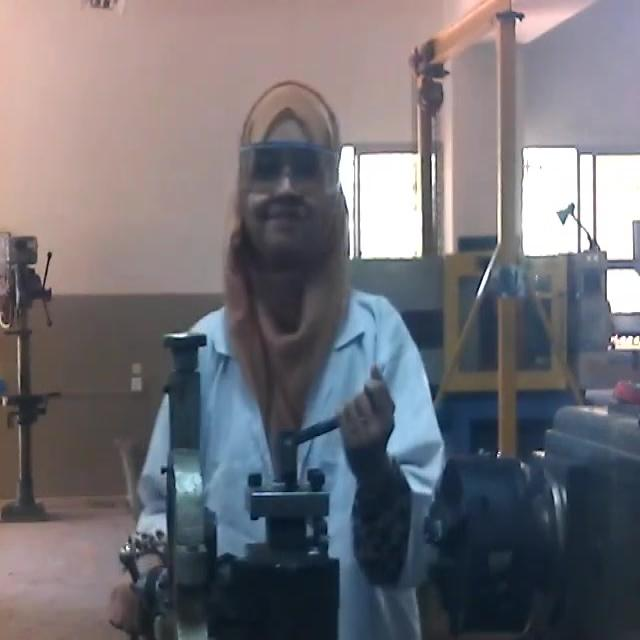googles: (242, 136, 332, 196)
labcoat: (134, 246, 450, 640)
